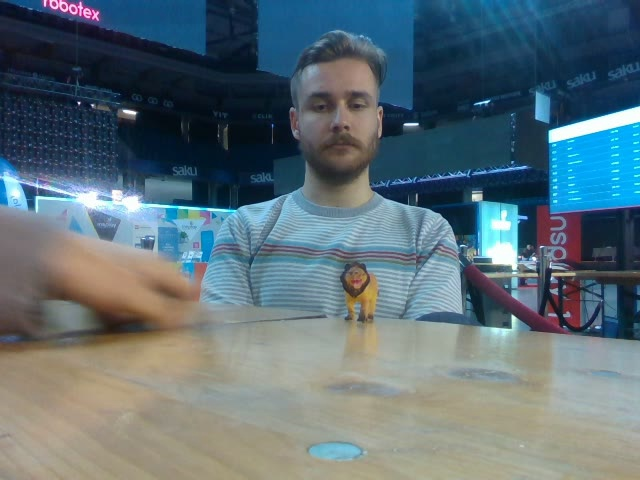toy: (339, 261, 378, 323)
